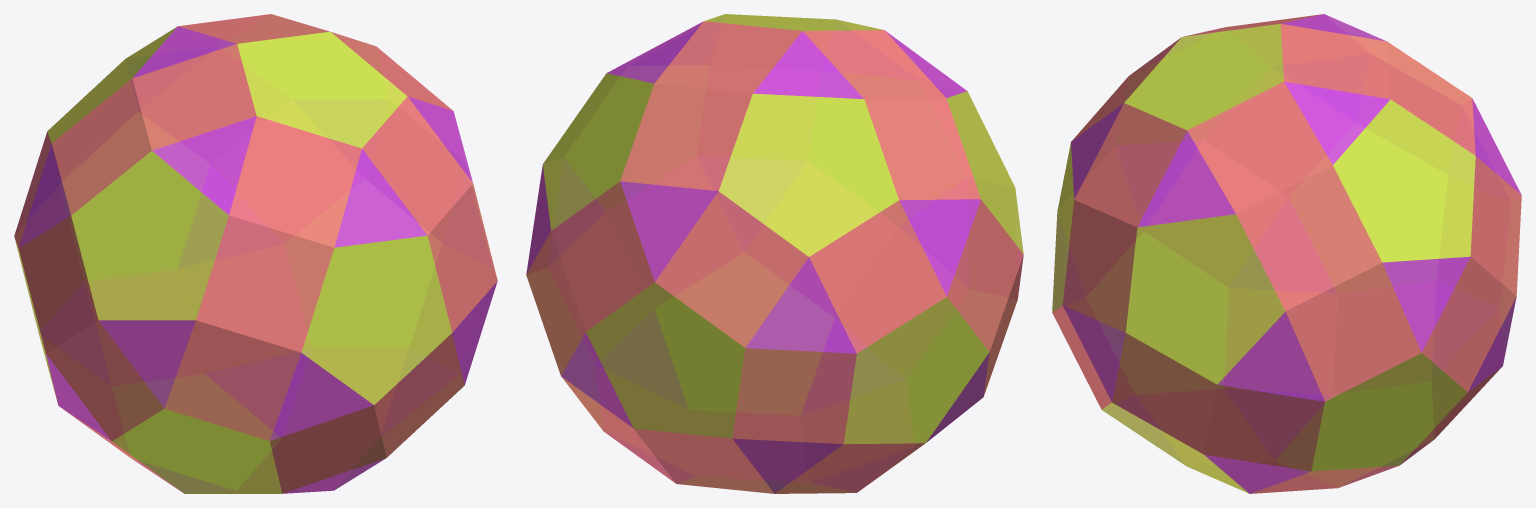
The model's file is j75_trigyrate_rhombicosidodecahedron.obj.
3 renders of one model, left to right at view 1: azimuth 30°, elevation 25°; view 2: azimuth 150°, elevation 25°; view 3: azimuth 270°, elevation 25°, orthographic. The views are drawn at different scales.
Bounding box in the file's own units: 1.96 × 1.99 × 1.93.
